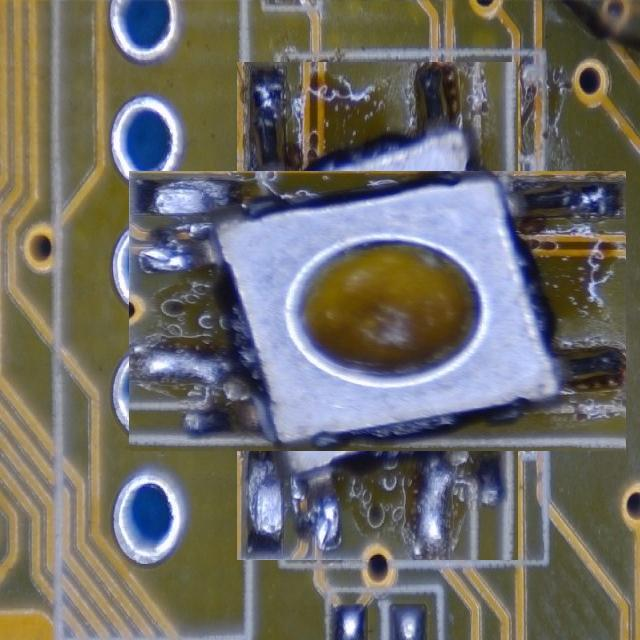Incorrect_installation: (130, 171, 625, 450)
